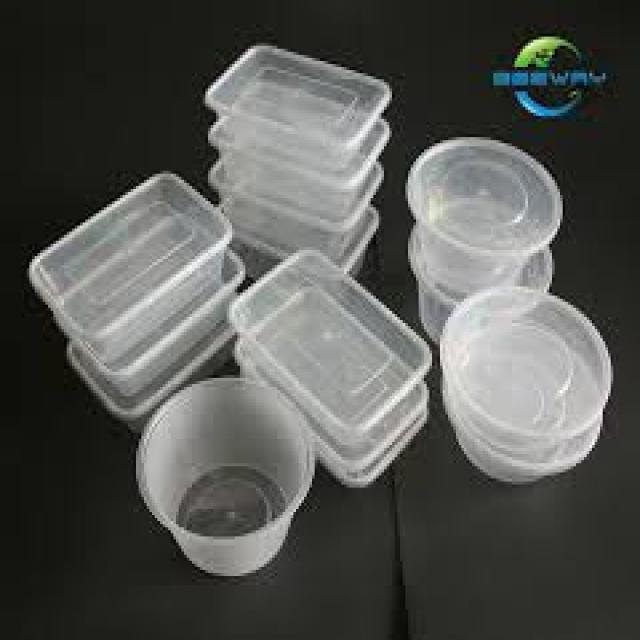disposable: (212, 250, 446, 453), (114, 371, 320, 582), (32, 171, 230, 358), (442, 279, 622, 473), (405, 112, 569, 305), (218, 23, 393, 160)
